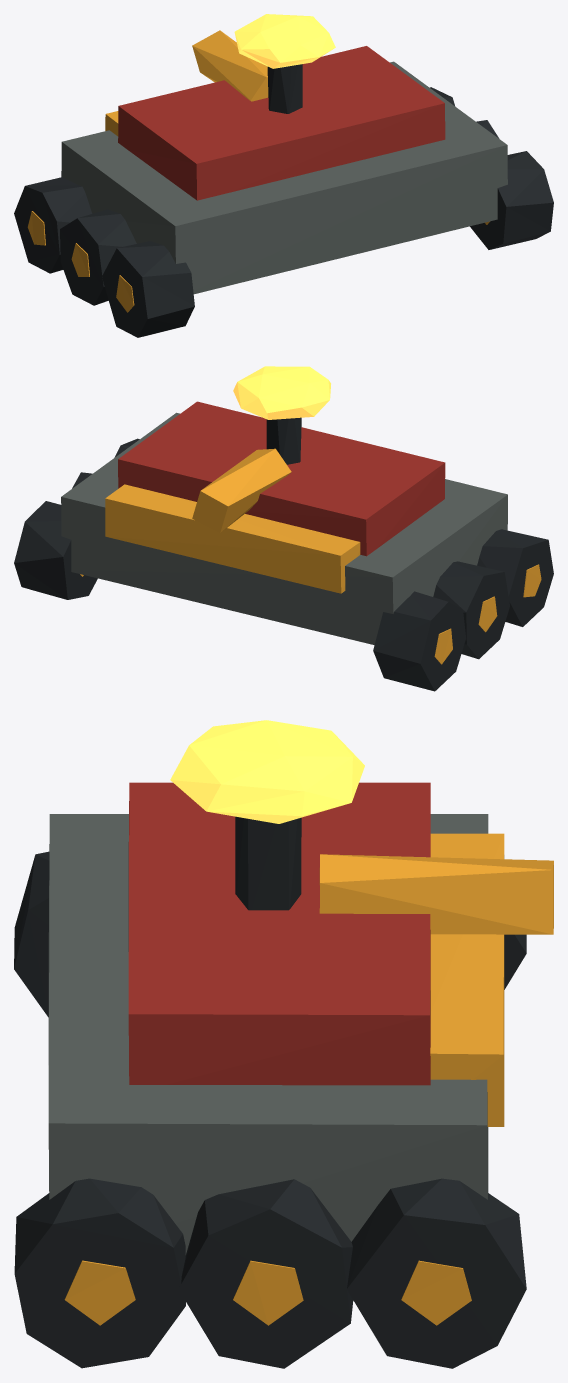
Rendered from SM_Soviet_SU_RysScout_LOD3.fbx.
3 views of the same model, one above another, from view 1: azimuth 30°, elevation 25°; view 2: azimuth 150°, elevation 25°; view 3: azimuth 270°, elevation 25° (orthographic). The views are drawn at different scales.
Parts seen in each view (by area): view 1: LOD03_SM_Soviet_SU_RysScout; view 2: LOD03_SM_Soviet_SU_RysScout; view 3: LOD03_SM_Soviet_SU_RysScout.
Boxes of the visible parts, x1,y1,x2,y2 form: LOD03_SM_Soviet_SU_RysScout: (14,14,553,337); LOD03_SM_Soviet_SU_RysScout: (14,366,553,691); LOD03_SM_Soviet_SU_RysScout: (14,720,553,1368).
Bounding box in the file's own units: 354 × 212 × 192.
